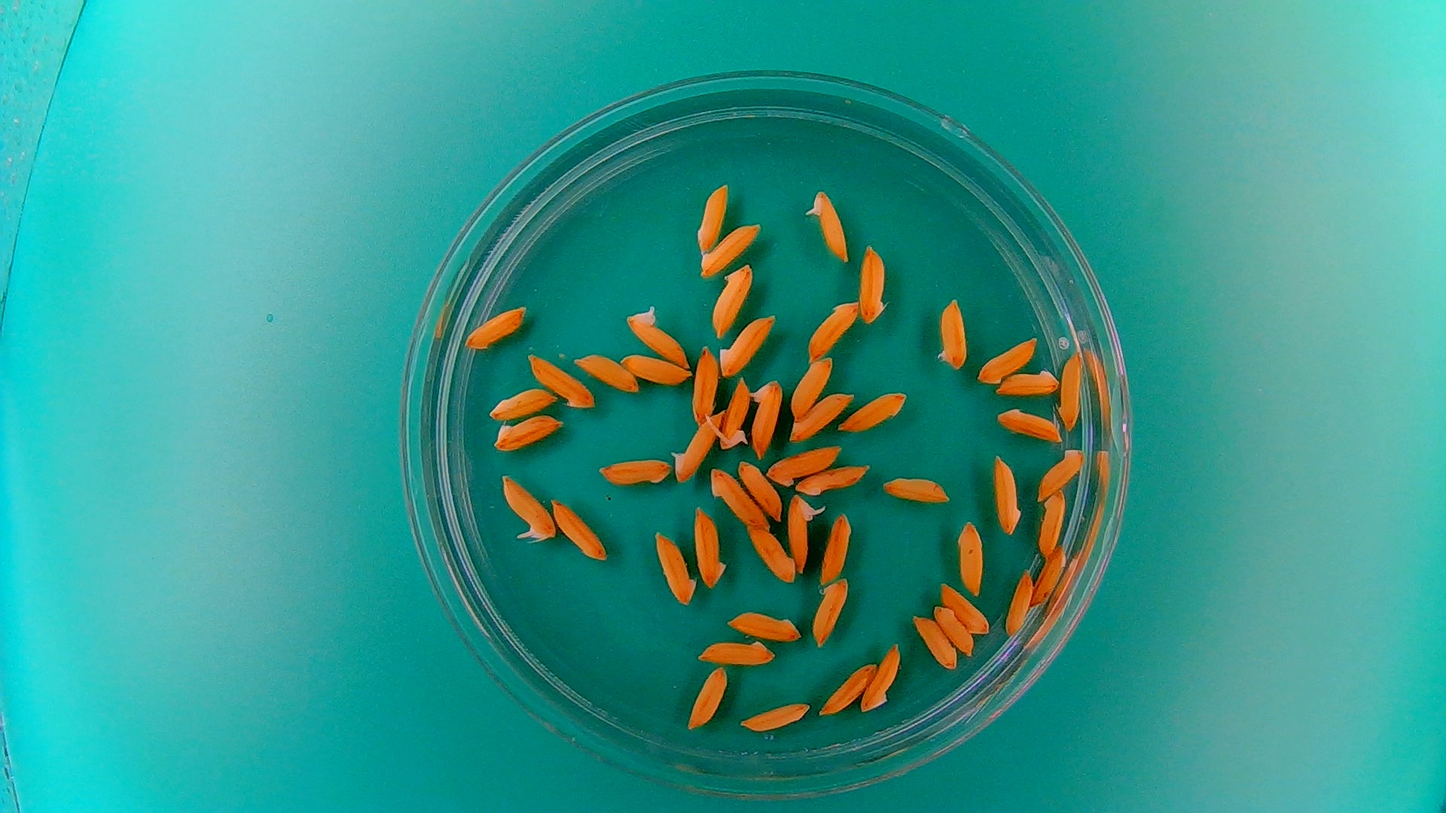no: (716, 310, 778, 378), (548, 495, 609, 564), (526, 351, 596, 411), (708, 463, 770, 530), (696, 219, 764, 278), (708, 260, 755, 341), (651, 527, 697, 607), (789, 388, 856, 442), (765, 442, 843, 487), (806, 299, 860, 361), (819, 659, 877, 716), (691, 501, 728, 589), (837, 389, 908, 434), (463, 303, 529, 351), (976, 335, 1039, 385), (861, 639, 903, 714), (490, 411, 566, 452), (685, 663, 730, 732), (745, 523, 795, 583), (789, 355, 834, 421), (938, 578, 991, 634), (736, 458, 782, 522), (572, 350, 640, 393), (725, 606, 804, 643), (810, 576, 850, 649), (1036, 445, 1087, 501), (595, 453, 673, 489), (738, 697, 813, 734), (693, 181, 731, 254), (484, 384, 560, 420), (795, 461, 872, 496), (994, 404, 1063, 443), (911, 613, 957, 671), (858, 241, 889, 327), (818, 508, 853, 584), (934, 294, 969, 370), (696, 635, 776, 668), (954, 517, 987, 597), (992, 451, 1023, 536), (618, 352, 694, 386), (880, 472, 953, 507), (1030, 544, 1069, 609), (690, 340, 719, 425), (1036, 488, 1068, 560), (1003, 566, 1035, 638), (932, 604, 974, 657), (1057, 349, 1083, 431), (995, 367, 1061, 396)
yes: (497, 471, 557, 547), (624, 304, 691, 368), (670, 409, 724, 483), (805, 187, 850, 264), (787, 492, 826, 575), (748, 376, 785, 459), (718, 374, 752, 450)
